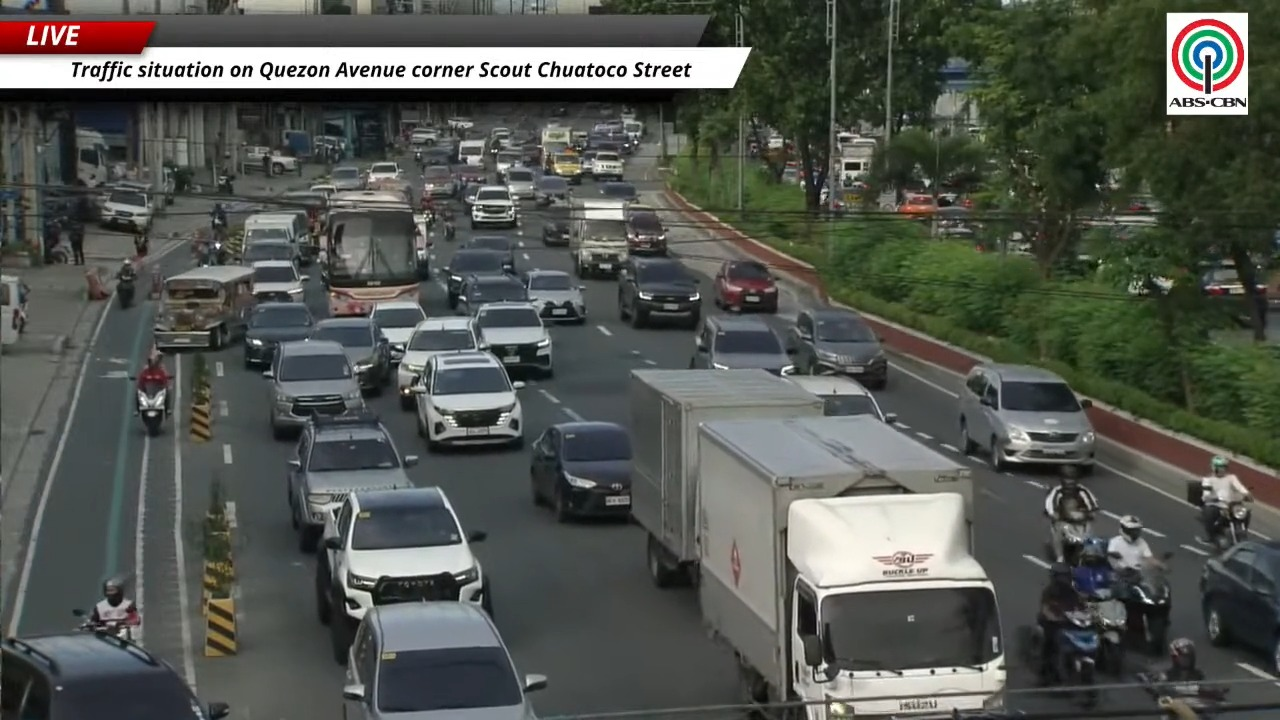bus: (324, 191, 419, 316)
car: (315, 487, 489, 662), (343, 602, 546, 719), (0, 632, 229, 719), (287, 412, 417, 552), (958, 363, 1096, 473), (411, 351, 523, 450), (1199, 539, 1279, 672), (530, 421, 631, 521), (263, 339, 364, 438), (788, 307, 888, 389), (397, 316, 479, 410), (689, 315, 793, 375), (310, 316, 391, 392), (473, 301, 553, 377), (617, 257, 701, 328), (786, 374, 896, 423), (243, 302, 315, 369), (444, 248, 509, 309), (370, 301, 426, 364), (713, 260, 778, 312), (522, 270, 586, 322), (456, 276, 527, 315), (100, 188, 154, 233), (252, 260, 308, 301), (470, 185, 517, 228), (462, 235, 518, 271), (626, 208, 666, 254), (243, 146, 300, 175), (240, 240, 297, 265), (421, 163, 458, 199), (535, 175, 572, 206), (504, 167, 537, 201), (548, 152, 583, 184), (542, 212, 570, 246), (329, 165, 365, 191), (897, 194, 938, 216), (598, 180, 638, 201), (366, 162, 403, 184), (494, 150, 521, 180), (421, 146, 453, 167), (452, 164, 487, 183), (410, 127, 439, 146), (519, 143, 541, 166), (461, 182, 480, 207), (578, 149, 595, 176), (446, 116, 474, 130), (294, 248, 297, 255)
motorcycle: (1116, 561, 1171, 655), (1136, 672, 1228, 719), (1056, 610, 1100, 705), (1089, 588, 1126, 676), (1046, 508, 1091, 565), (73, 609, 140, 642), (1209, 502, 1250, 551), (136, 383, 168, 436), (42, 216, 73, 263), (116, 273, 135, 308), (217, 173, 234, 194), (134, 233, 148, 257), (444, 220, 455, 242), (413, 149, 423, 165)
truck: (696, 416, 1006, 719), (628, 368, 823, 587), (570, 198, 627, 277), (75, 127, 110, 187), (838, 138, 876, 186)
